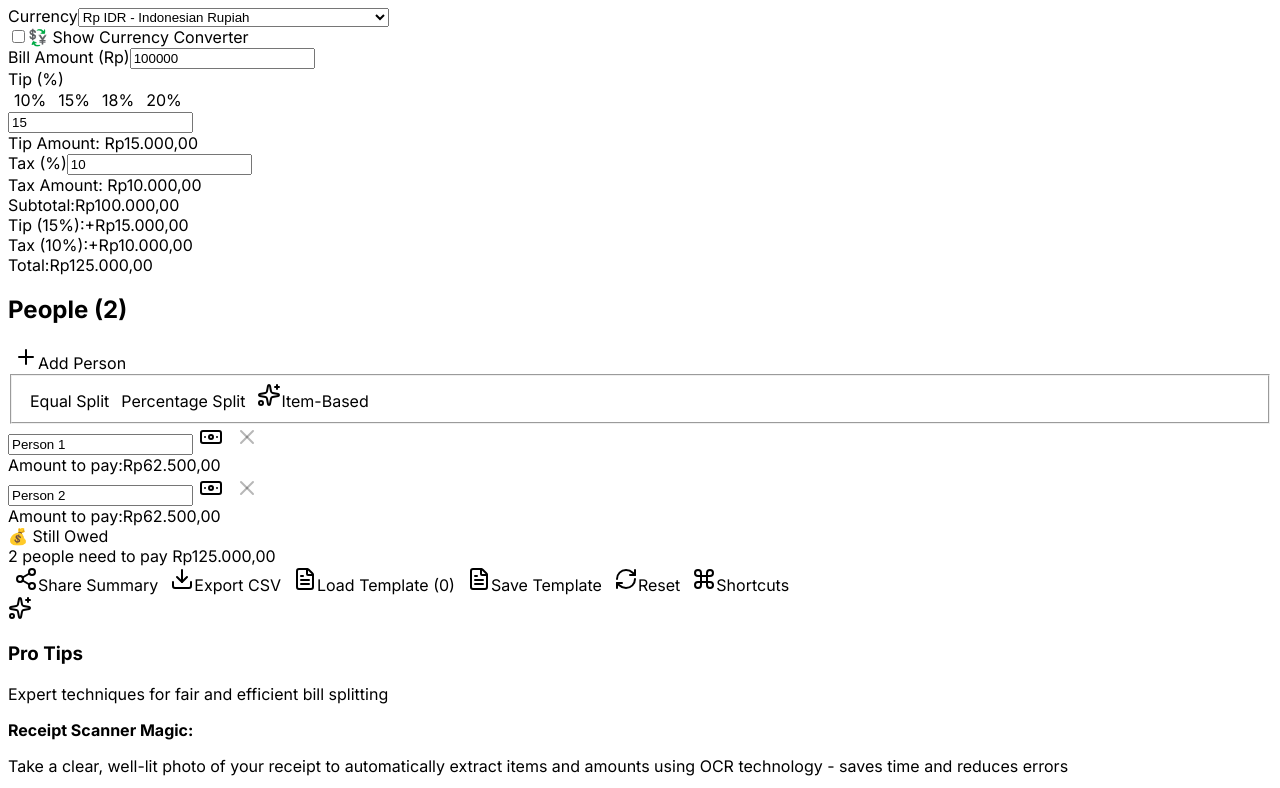
Test case: Split Bill Calculator Page › Split Type Modes › should switch to percentage split mode
(page scrolled)
Click the button "Percentage Split".
click(183, 400)  # box [115,390,251,412]
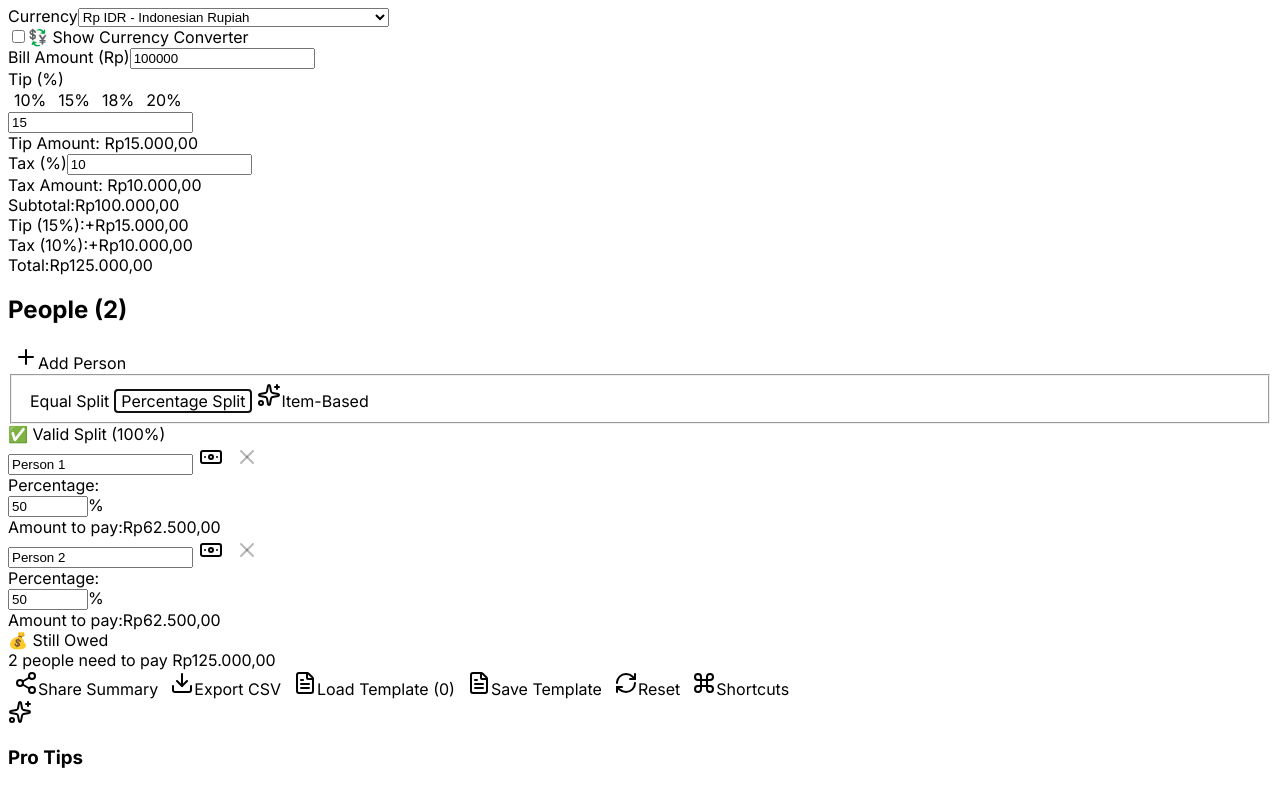
Now the 1st text "Percentage:" is shown, box [8,474,99,494]
